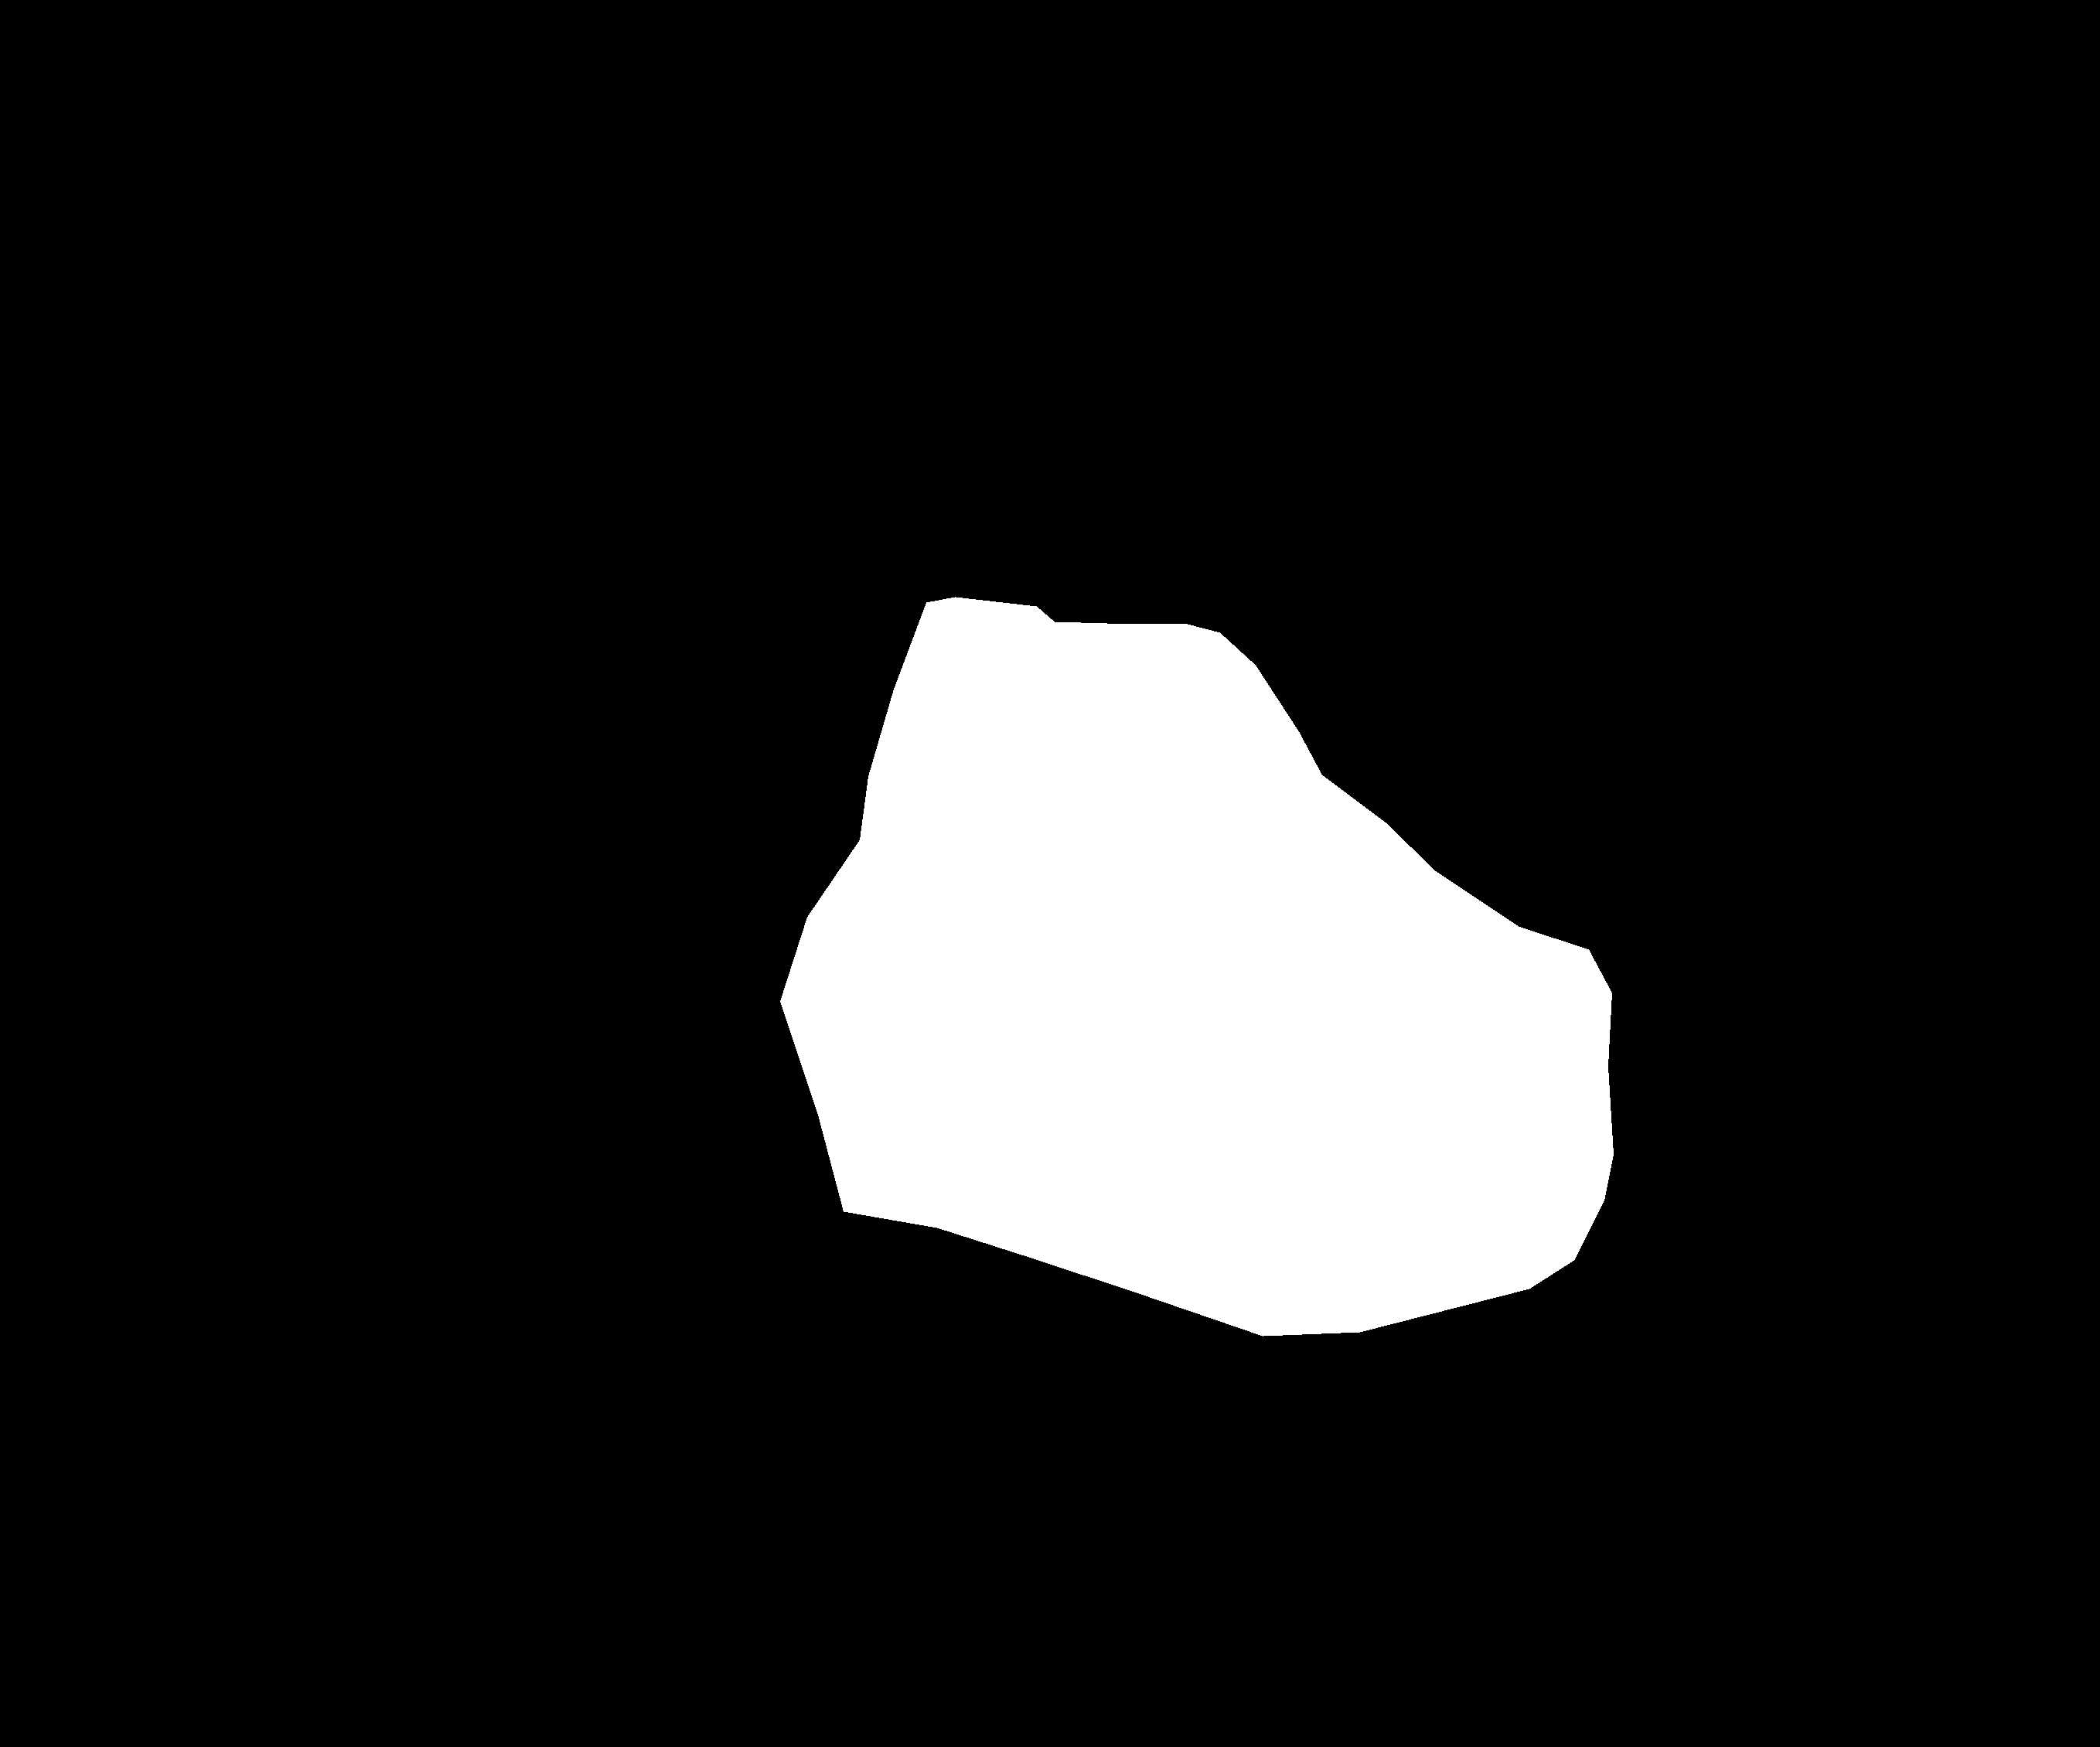heart: (780, 596, 1613, 1336)
left_lung: (202, 66, 954, 1397)
right_lung: (1106, 75, 1868, 1452)
